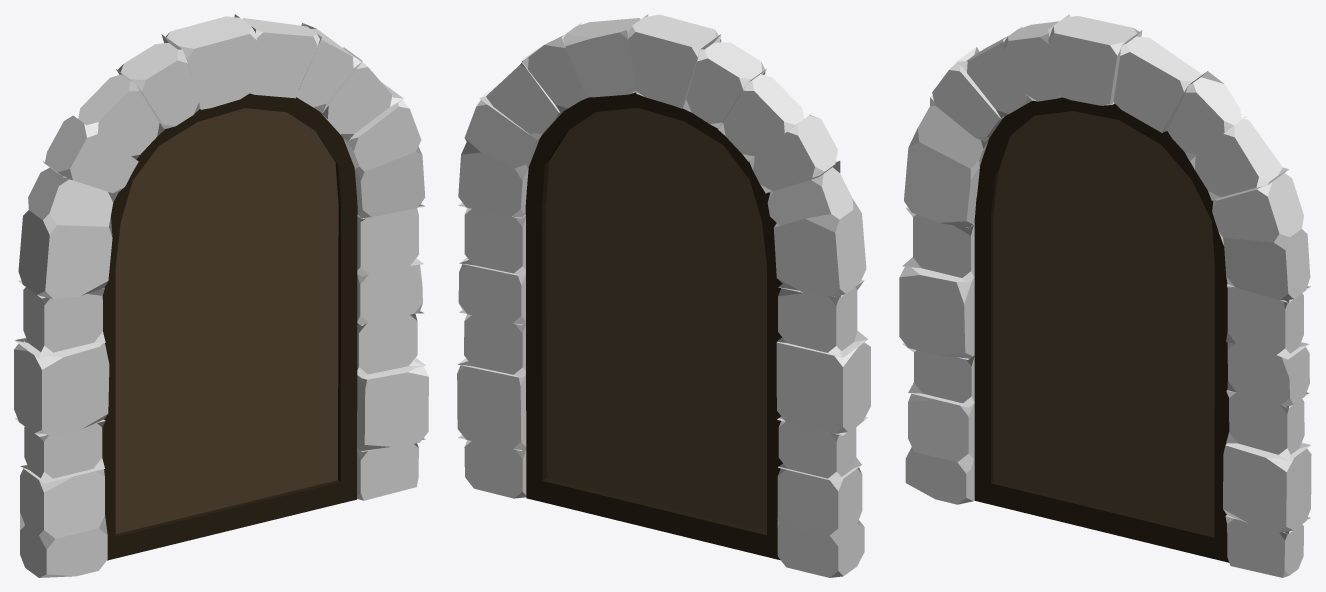
File: Arch.fbx
3 renders of one model, left to right at view 1: azimuth 30°, elevation 25°; view 2: azimuth 150°, elevation 25°; view 3: azimuth 330°, elevation 25°, orthographic.
Parts seen in each view (by area): view 1: Arch, Door, Inner arch; view 2: Arch, Door, Inner arch; view 3: Arch, Door, Inner arch.
Part boxes in pixels (bbox=[...]): Arch: bbox=[14, 14, 428, 577]; Door: bbox=[115, 108, 338, 533]; Inner arch: bbox=[102, 93, 357, 560]; Arch: bbox=[457, 14, 870, 577]; Door: bbox=[546, 108, 766, 531]; Inner arch: bbox=[525, 92, 782, 560]; Arch: bbox=[899, 14, 1311, 577]; Door: bbox=[993, 111, 1214, 534]; Inner arch: bbox=[974, 97, 1229, 562].
Bounding box in the file's own units: 342 × 419 × 44.63.
